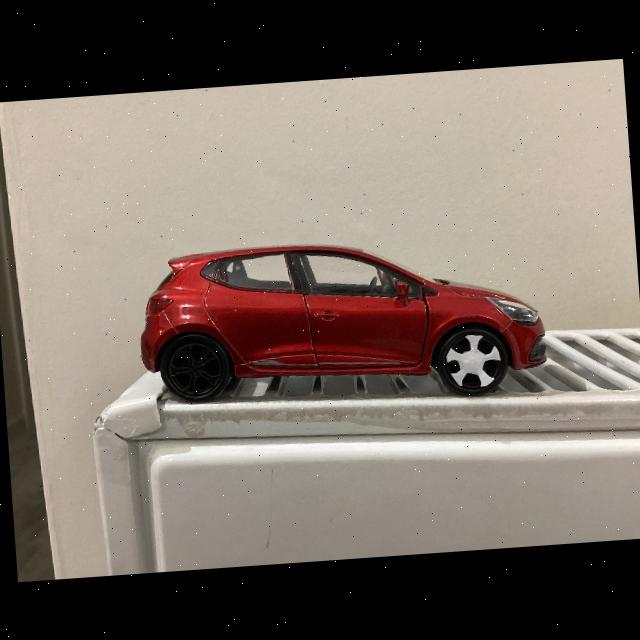Dogru_Jant: (167, 341, 223, 397)
Yanlis_Jant: (444, 332, 504, 392)
